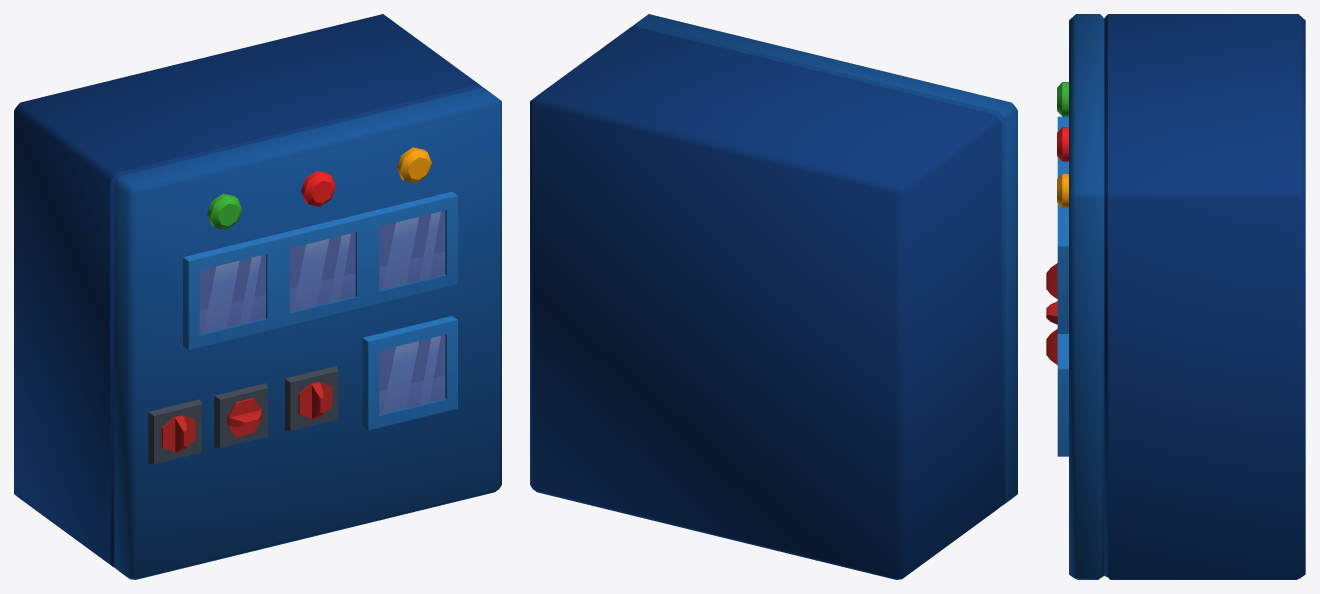
File: ElectricBox_3_B_2.fbx
3 renders of one model, left to right at view 1: azimuth 30°, elevation 25°; view 2: azimuth 150°, elevation 25°; view 3: azimuth 270°, elevation 25°, orthographic.
Parts seen in each view (by area): view 1: ElectricBox_3_B_2; view 2: ElectricBox_3_B_2; view 3: ElectricBox_3_B_2.
Boxes of the visible parts, x1,y1,x2,y2 form: ElectricBox_3_B_2: (14,14,501,579); ElectricBox_3_B_2: (530,14,1017,579); ElectricBox_3_B_2: (1046,14,1305,579).
Bounding box in the file's own units: 102 × 102 × 61.6.
